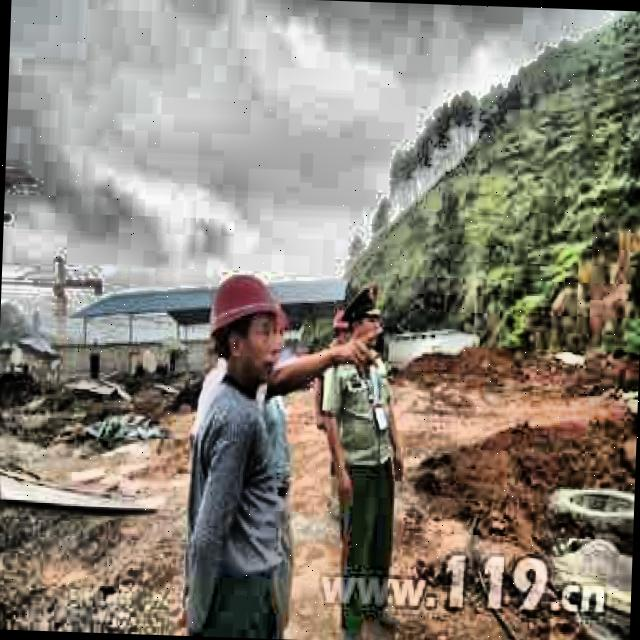helmet: (198, 255, 290, 390)
